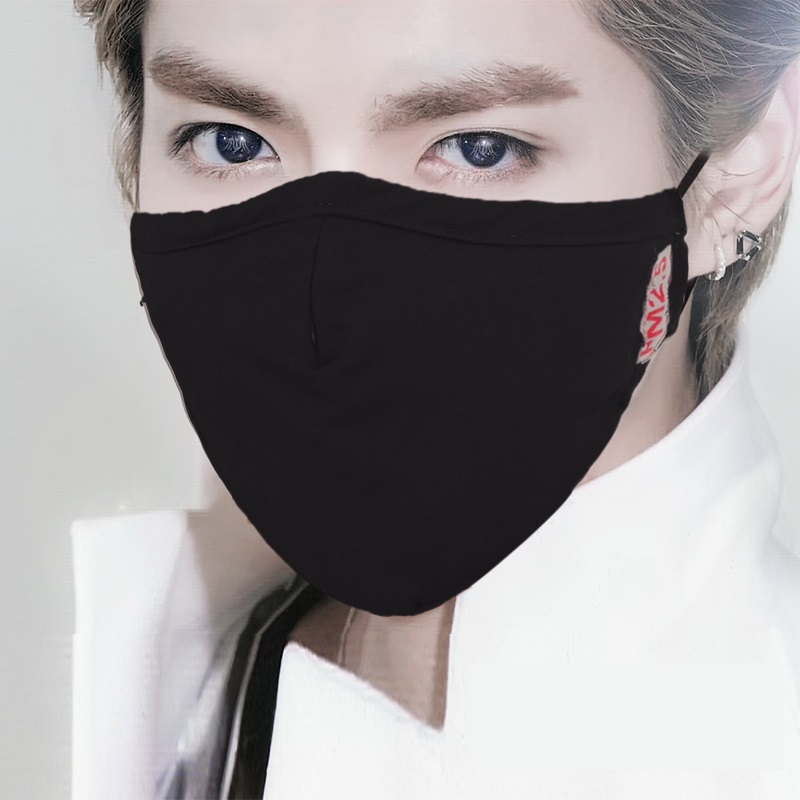face_mask: (131, 1, 661, 622)
